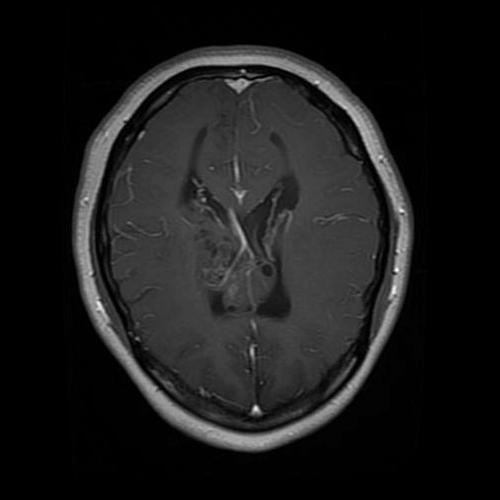Tumour-Glioma: (187, 200, 258, 294)
